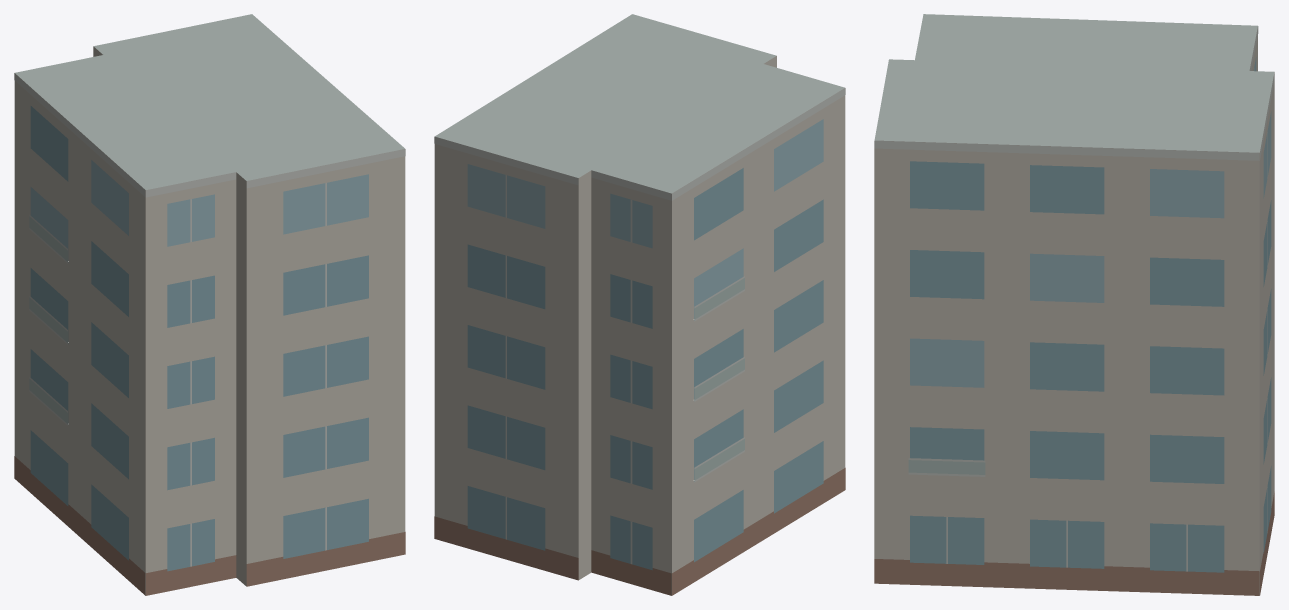
File: survey-upis-32699065.glb
3 renders of one model, left to right at view 1: azimuth 30°, elevation 25°; view 2: azimuth 150°, elevation 25°; view 3: azimuth 270°, elevation 25°, orthographic. The views are drawn at different scales.
Parts seen in each view (by area): view 1: survey-upis-32699065.tmp; view 2: survey-upis-32699065.tmp; view 3: survey-upis-32699065.tmp.
Boxes of the visible parts, x1=… form: survey-upis-32699065.tmp: x1=14, y1=14, x2=405, y2=595; survey-upis-32699065.tmp: x1=434, y1=14, x2=845, y2=595; survey-upis-32699065.tmp: x1=874, y1=14, x2=1274, y2=595.
Bounding box in the file's own units: 9.01 × 13.4 × 10.98.
